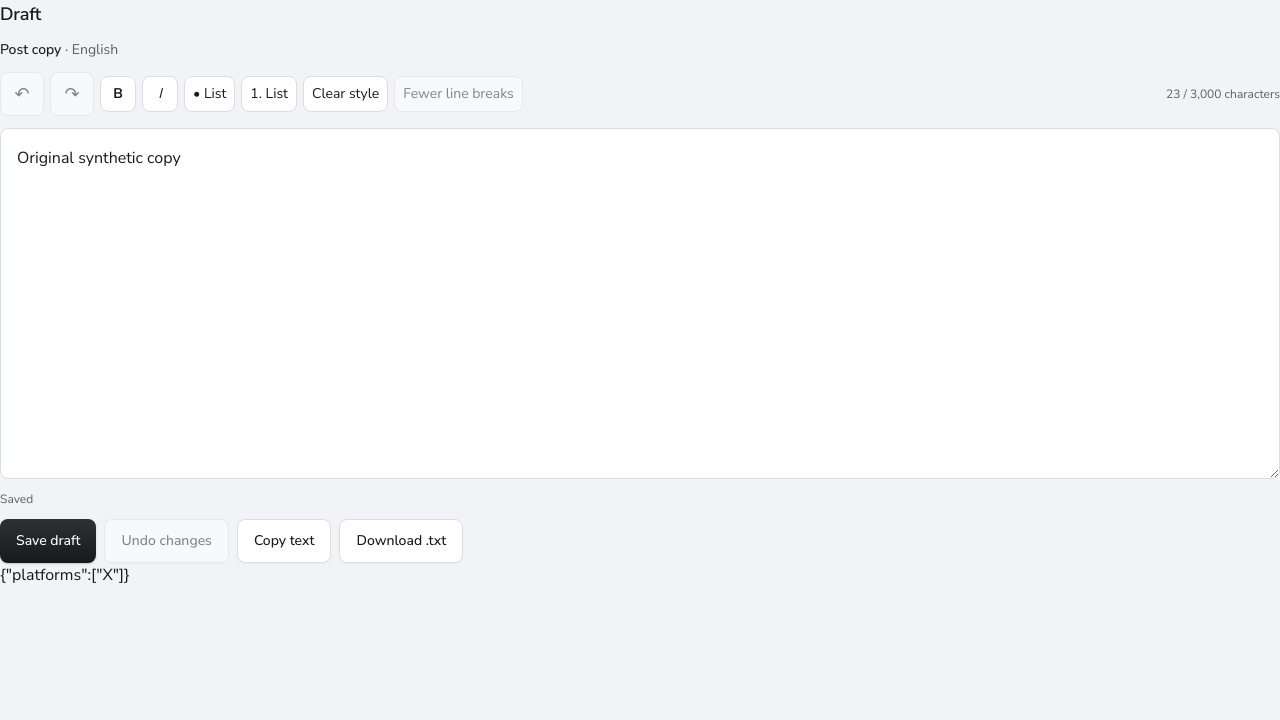
it: PostEditor save notification (CS-050) › Use current version adopts the saved platforms and Chinese as well as English after a conflict
Replace the text in the text box with "My older tab edit". click: (640,303)
box: left=0, top=128, right=1279, bottom=479
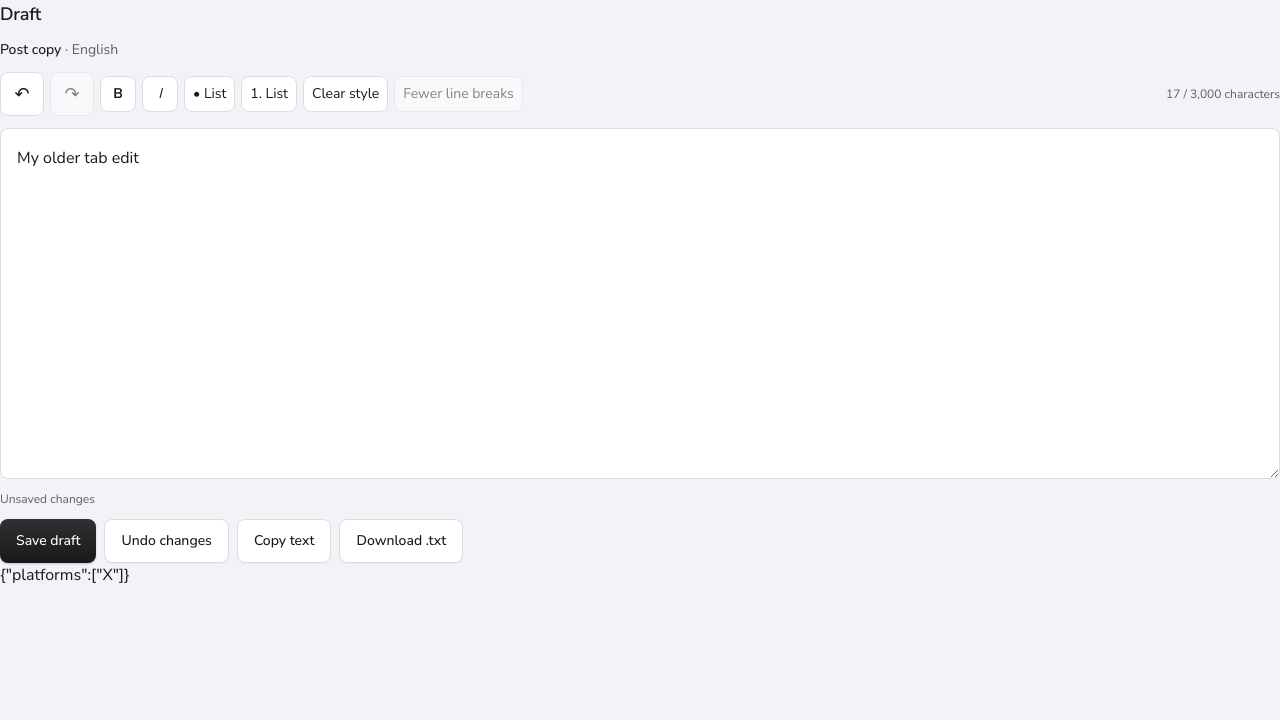
Click the button "Save draft". click: (48,541)
box: left=0, top=519, right=96, bottom=563
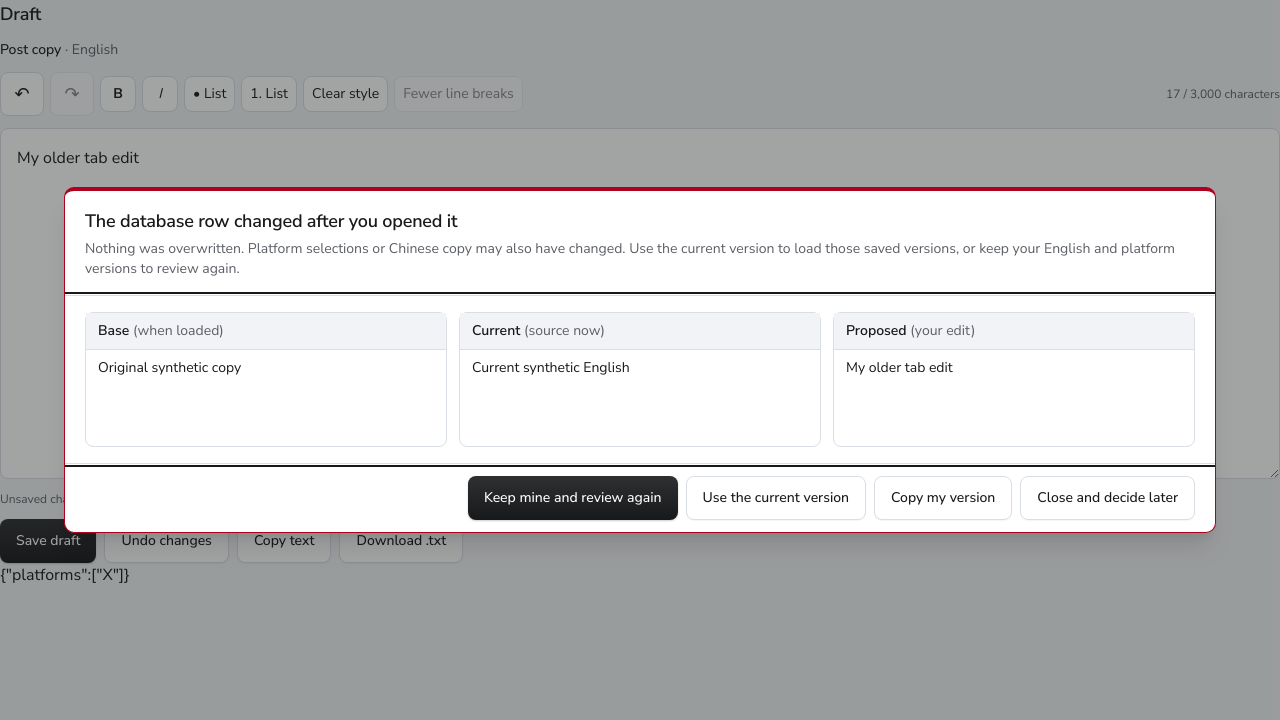
Click the button "Use the current version". click: (776,498)
box: left=686, top=476, right=866, bottom=520
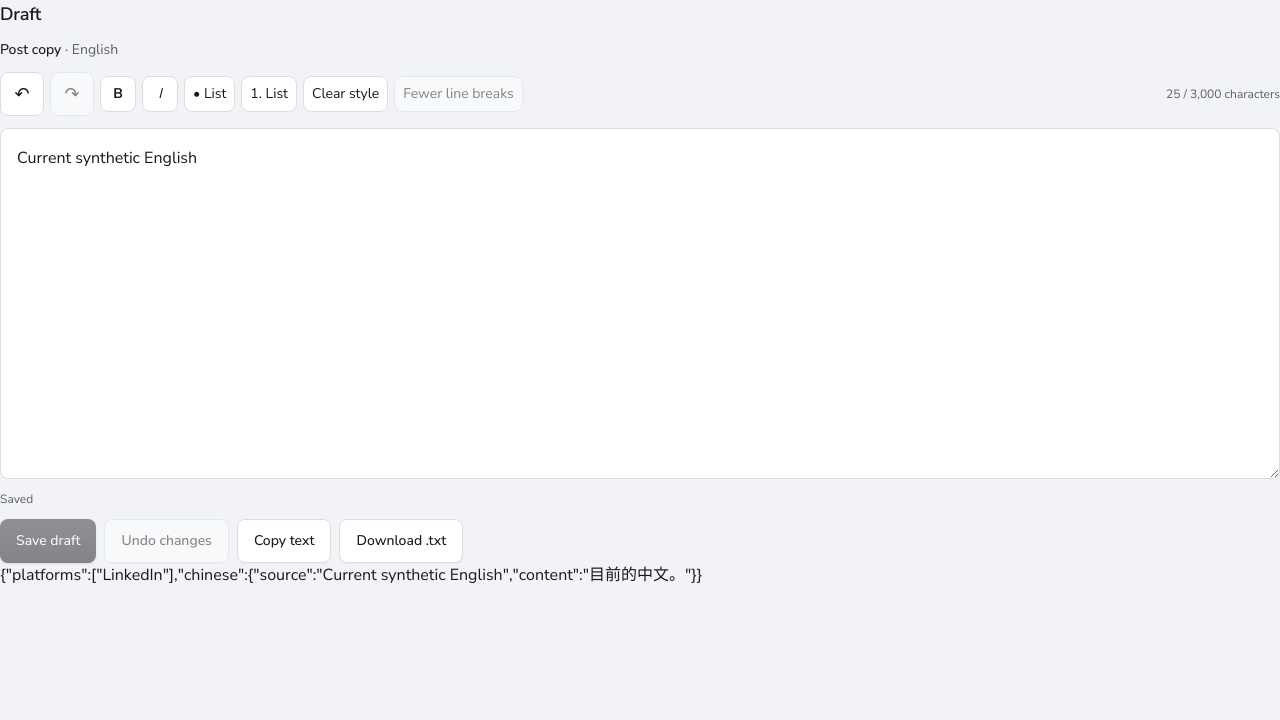
Expected: the text box holds "Current synthetic English", left=0, top=128, right=1279, bottom=479
